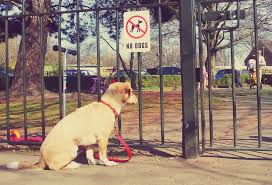dog_sitting: (5, 79, 140, 172)
